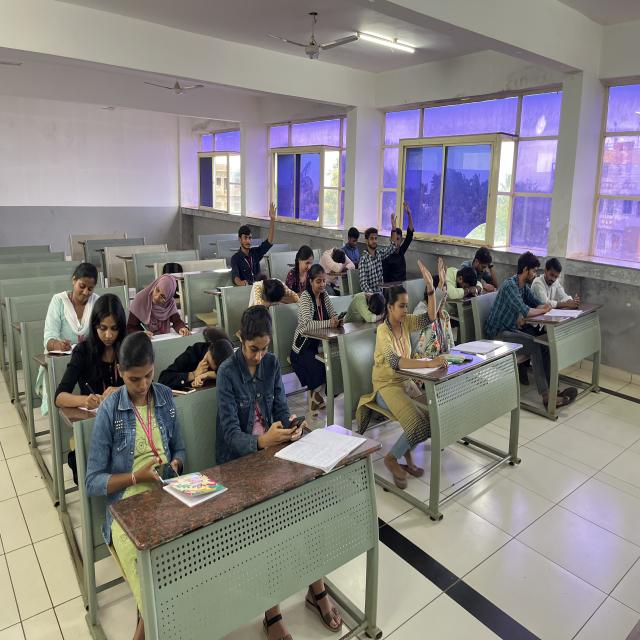Hand Rising: (381, 256, 436, 385), (228, 199, 279, 284), (424, 252, 456, 361), (367, 209, 398, 289), (392, 198, 418, 284)
Reading: (496, 247, 554, 335), (533, 250, 580, 324), (288, 244, 318, 301)
Sleeping: (159, 322, 237, 394), (242, 269, 303, 323), (342, 286, 389, 335), (438, 261, 485, 308), (315, 244, 357, 281)
Using Phone: (88, 328, 196, 498), (215, 303, 308, 453), (292, 262, 349, 351), (467, 241, 501, 297)
Writing: (50, 290, 130, 418), (44, 261, 102, 357), (125, 273, 189, 343)
